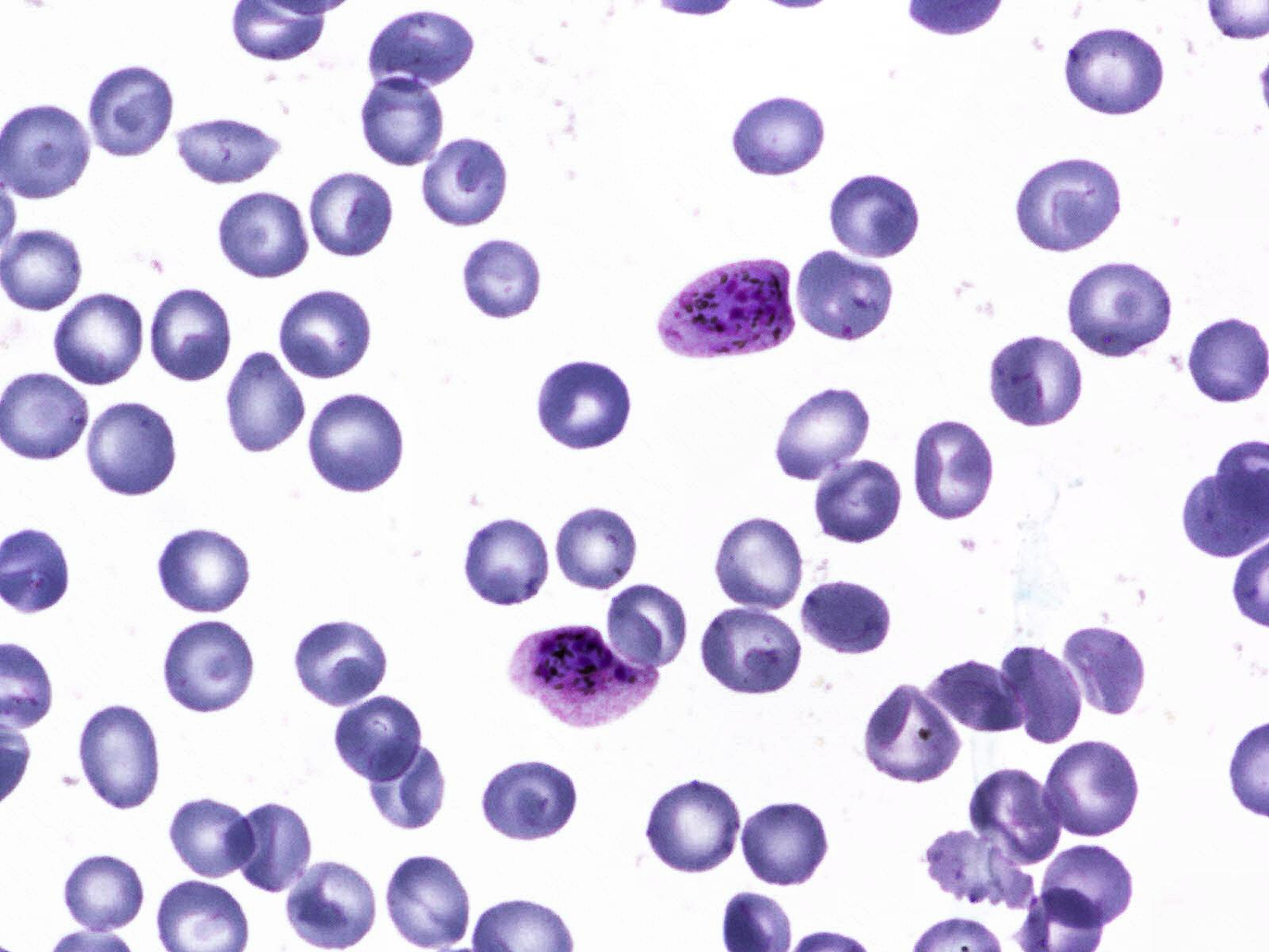Infected: (654, 249, 801, 366), (505, 624, 656, 728)
Uninfected: (968, 758, 1077, 881), (1012, 151, 1123, 257), (1038, 734, 1143, 842), (860, 678, 963, 787), (1065, 261, 1174, 363), (918, 824, 1036, 916), (793, 248, 898, 350), (49, 291, 151, 396), (642, 772, 742, 879), (1059, 21, 1167, 120), (772, 378, 872, 484), (362, 7, 485, 91), (454, 512, 554, 612), (155, 528, 264, 619), (219, 345, 308, 456), (71, 706, 163, 813), (711, 516, 809, 616), (82, 65, 178, 167), (360, 75, 462, 169), (309, 396, 401, 499), (480, 756, 587, 844), (549, 495, 642, 596), (987, 332, 1083, 428), (278, 286, 372, 384), (2, 372, 94, 472), (385, 848, 473, 952), (1064, 620, 1151, 724), (468, 232, 560, 330), (913, 418, 994, 529), (704, 608, 805, 697), (994, 644, 1083, 745), (2, 228, 102, 317), (731, 94, 832, 182), (602, 578, 688, 681), (333, 697, 429, 789), (285, 857, 379, 949), (5, 106, 91, 206), (536, 363, 629, 455), (217, 191, 311, 282), (813, 457, 903, 552), (151, 283, 233, 387), (306, 171, 395, 266), (826, 173, 922, 261), (418, 141, 515, 228), (171, 624, 254, 725), (927, 658, 1033, 737), (225, 803, 314, 896), (82, 408, 174, 497), (301, 616, 390, 706), (176, 115, 286, 186), (795, 575, 891, 656), (1041, 848, 1132, 933), (167, 797, 261, 879), (58, 854, 148, 938), (367, 748, 450, 835), (740, 805, 826, 882), (1185, 321, 1267, 400)
